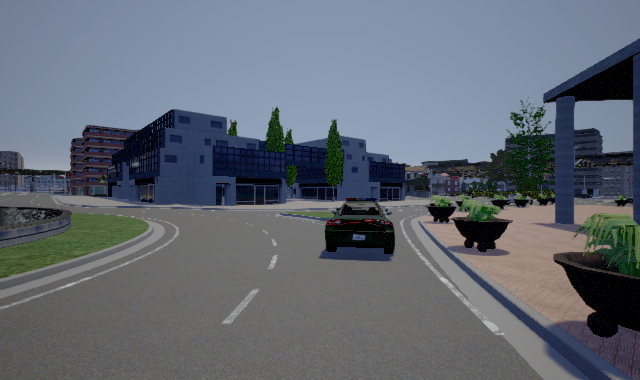vehicle: (324, 198, 395, 254)
